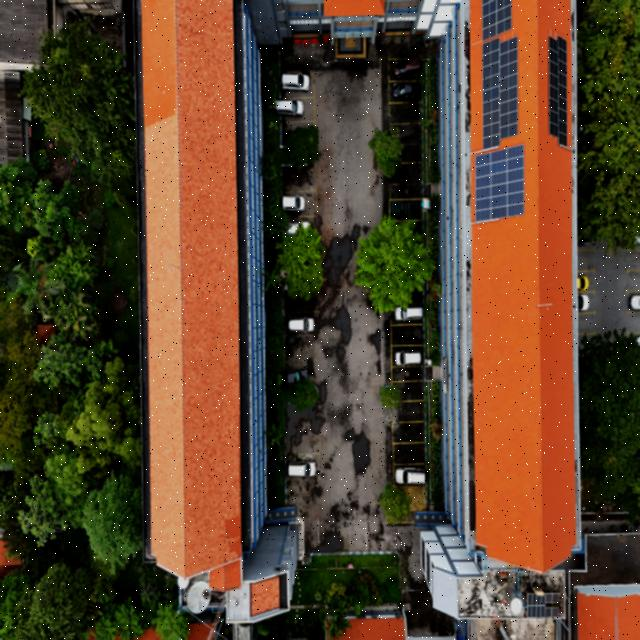Tree: (352, 212, 438, 324), (270, 219, 328, 304), (366, 124, 410, 188), (151, 595, 191, 640), (109, 590, 144, 640), (286, 372, 321, 414)
